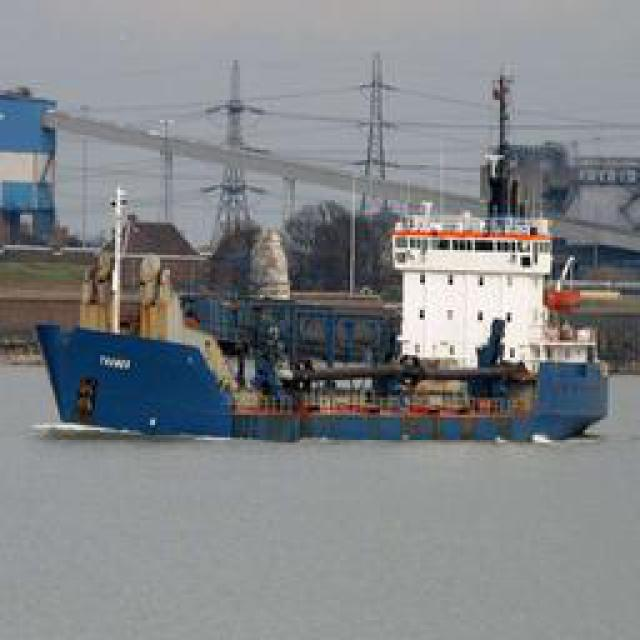Ship: (381, 174, 614, 414)
